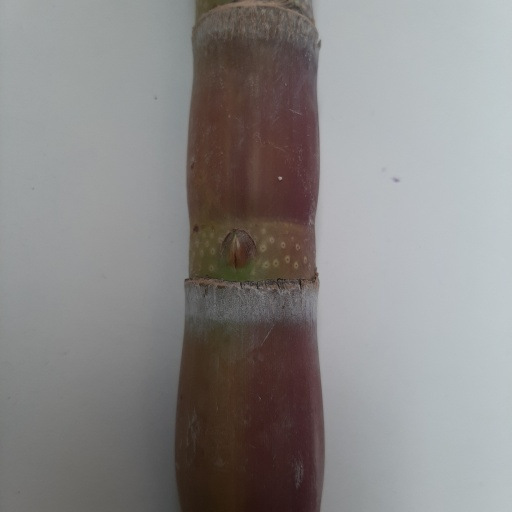Bud: (222, 228, 258, 271)
